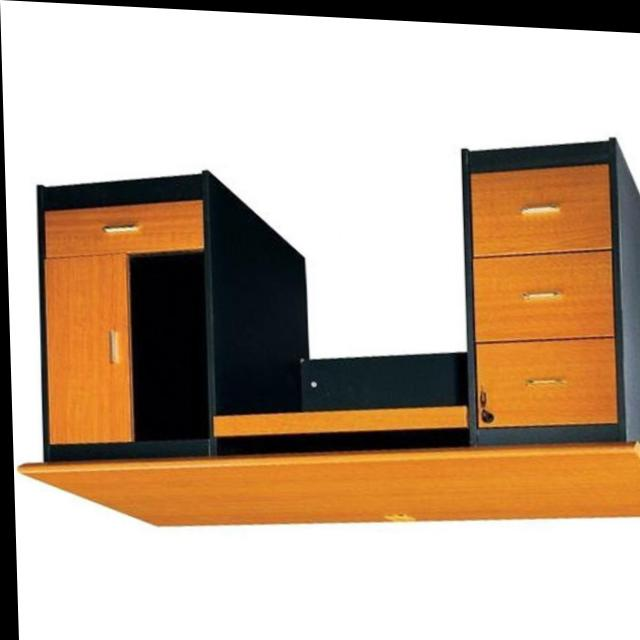Table: (1, 64, 640, 564)
